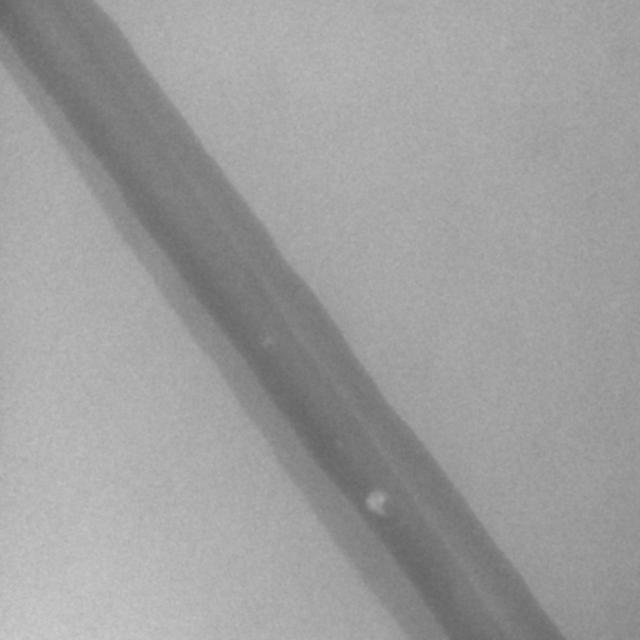slag inclusion: (367, 490, 388, 518)
